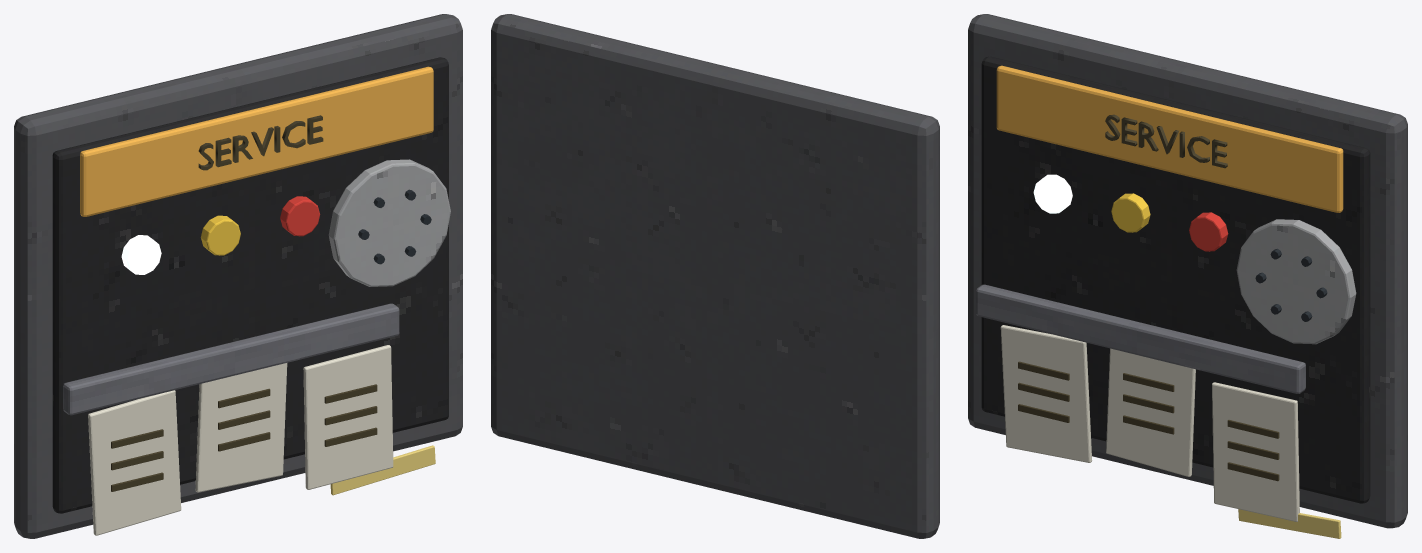
The model's file is decor_chem_service_board.glb.
3 views of the same model, side by side, from view 1: azimuth 30°, elevation 25°; view 2: azimuth 150°, elevation 25°; view 3: azimuth 330°, elevation 25° (orthographic). The views are drawn at different scales.
Parts seen in each view (by area): view 1: DEC_ChemServiceBoard__Board_Face, DEC_ChemServiceBoard__Board_Back, DEC_ChemServiceBoard__Service_Header, DEC_ChemServiceBoard__Ticket_Rail, DEC_ChemServiceBoard__Intercom, DEC_ChemServiceBoard__Order_Ticket_3, DEC_ChemServiceBoard__Order_Ticket_1, DEC_ChemServiceBoard__Order_Ticket_2, DEC_ChemServiceBoard__Service_Title, DEC_ChemServiceBoard__Tape_Strip, DEC_ChemServiceBoard__Service_Light_2, DEC_ChemServiceBoard__Service_Light_3 (+1 smaller); view 2: DEC_ChemServiceBoard__Board_Back; view 3: DEC_ChemServiceBoard__Board_Face, DEC_ChemServiceBoard__Board_Back, DEC_ChemServiceBoard__Service_Header, DEC_ChemServiceBoard__Ticket_Rail, DEC_ChemServiceBoard__Intercom, DEC_ChemServiceBoard__Order_Ticket_3, DEC_ChemServiceBoard__Order_Ticket_1, DEC_ChemServiceBoard__Order_Ticket_2, DEC_ChemServiceBoard__Service_Title, DEC_ChemServiceBoard__Tape_Strip, DEC_ChemServiceBoard__Service_Light_1, DEC_ChemServiceBoard__Service_Light_2 (+1 smaller).
Boxes of the visible parts, box(x1,y1,x2,y2) form: DEC_ChemServiceBoard__Board_Face: box(52, 57, 448, 513); DEC_ChemServiceBoard__Board_Back: box(14, 14, 462, 538); DEC_ChemServiceBoard__Service_Header: box(80, 66, 433, 216); DEC_ChemServiceBoard__Ticket_Rail: box(63, 303, 399, 415); DEC_ChemServiceBoard__Intercom: box(328, 159, 450, 286); DEC_ChemServiceBoard__Order_Ticket_3: box(303, 345, 393, 489); DEC_ChemServiceBoard__Order_Ticket_1: box(88, 390, 181, 535); DEC_ChemServiceBoard__Order_Ticket_2: box(195, 363, 287, 492); DEC_ChemServiceBoard__Service_Title: box(198, 115, 323, 170); DEC_ChemServiceBoard__Tape_Strip: box(330, 445, 435, 495); DEC_ChemServiceBoard__Service_Light_2: box(201, 215, 240, 255); DEC_ChemServiceBoard__Service_Light_3: box(280, 196, 320, 236); DEC_ChemServiceBoard__Board_Back: box(491, 14, 939, 538); DEC_ChemServiceBoard__Board_Face: box(981, 56, 1370, 503); DEC_ChemServiceBoard__Board_Back: box(968, 14, 1407, 528); DEC_ChemServiceBoard__Service_Header: box(996, 65, 1343, 212); DEC_ChemServiceBoard__Ticket_Rail: box(976, 284, 1305, 393); DEC_ChemServiceBoard__Intercom: box(1236, 219, 1356, 344); DEC_ChemServiceBoard__Order_Ticket_3: box(1212, 382, 1299, 521); DEC_ChemServiceBoard__Order_Ticket_1: box(1000, 325, 1092, 462); DEC_ChemServiceBoard__Order_Ticket_2: box(1106, 348, 1195, 476); DEC_ChemServiceBoard__Service_Title: box(1105, 114, 1227, 168); DEC_ChemServiceBoard__Tape_Strip: box(1238, 509, 1341, 538); DEC_ChemServiceBoard__Service_Light_1: box(1033, 174, 1072, 213); DEC_ChemServiceBoard__Service_Light_2: box(1111, 193, 1150, 232).
Size of the model in its own units: 1.28 by 1.19 by 0.1785.
12 materials, 4 textured.
